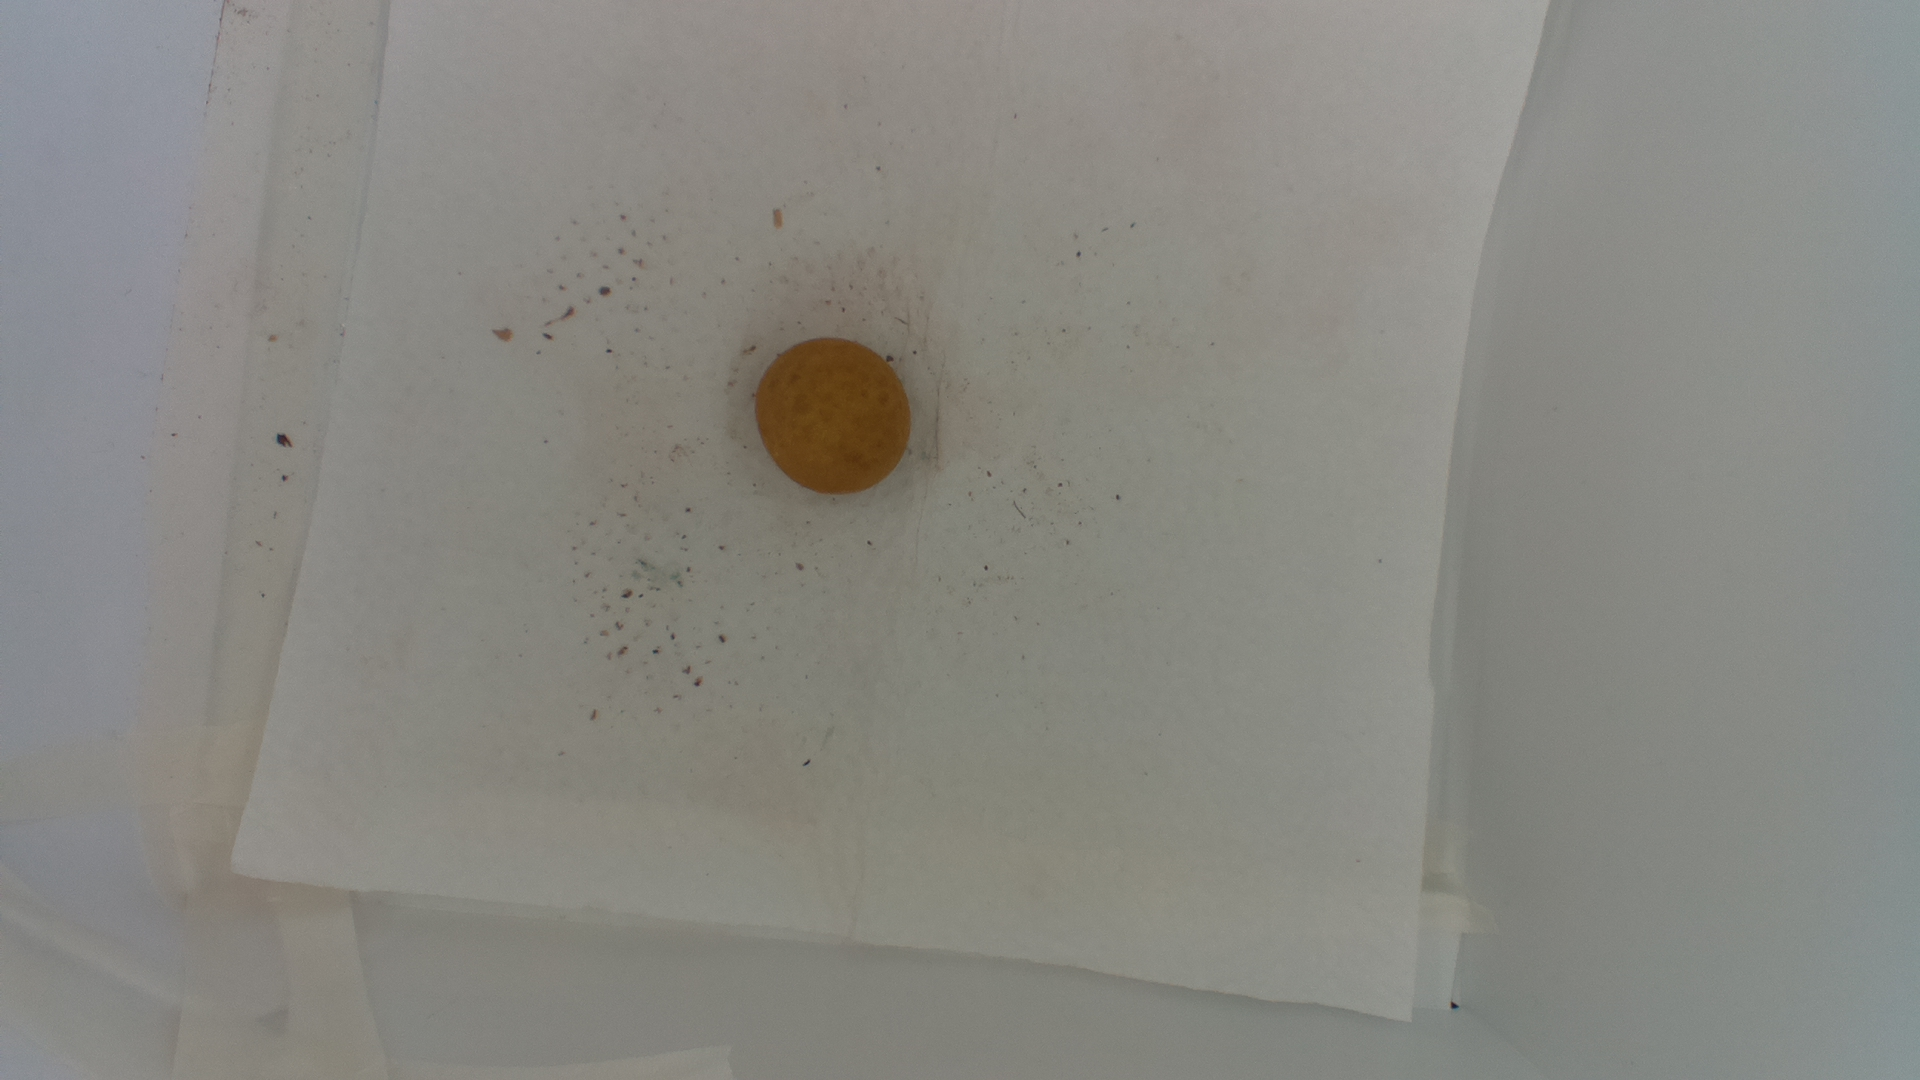fruit: (756, 334, 918, 502)
